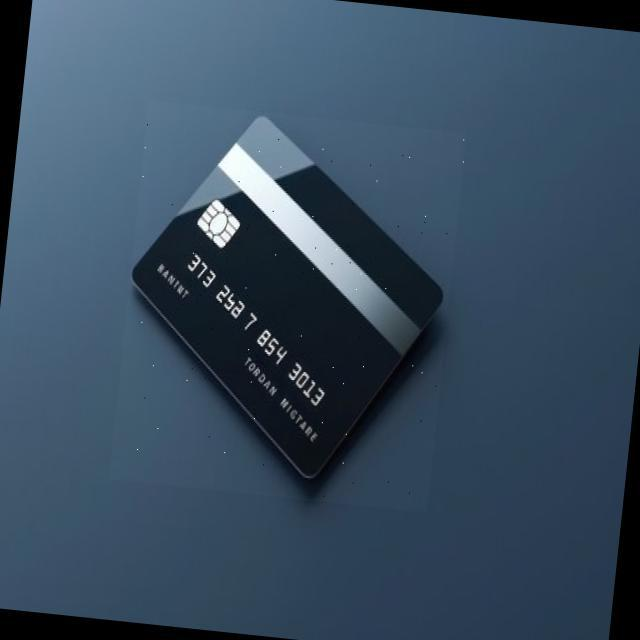payment_card: (129, 114, 444, 480)
